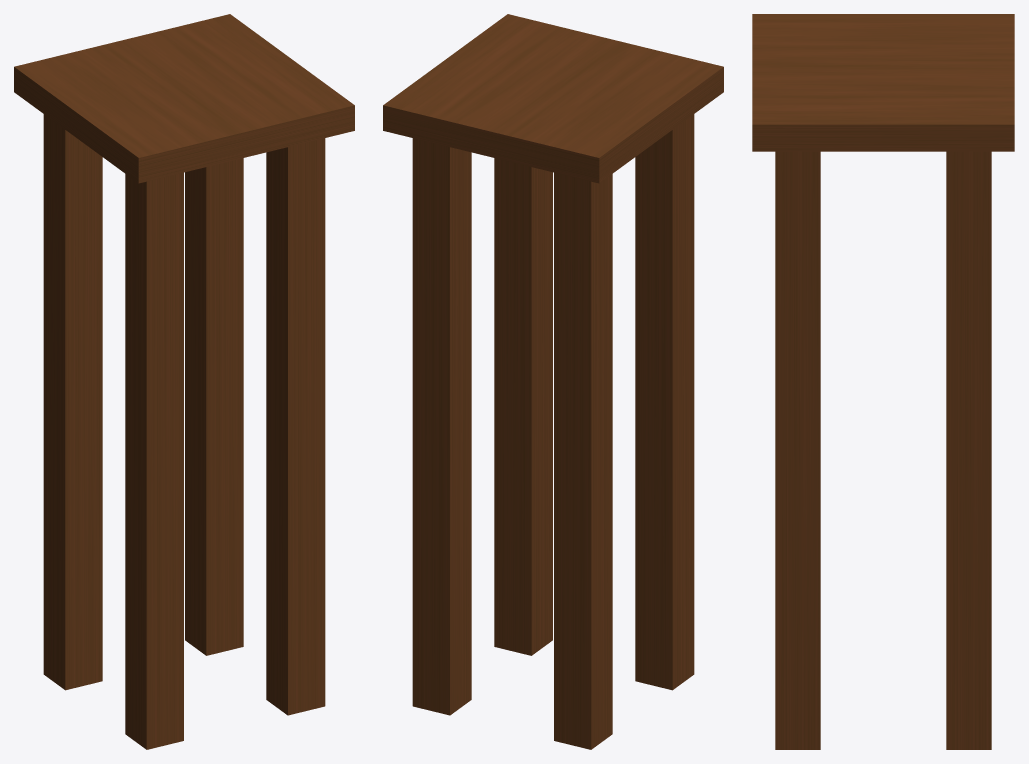
Rendered from long_table.obj.
The picture shows the model from 3 angles, left to right: view 1: azimuth 30°, elevation 25°; view 2: azimuth 150°, elevation 25°; view 3: azimuth 270°, elevation 25°; orthographic projection. The views are drawn at different scales.
Visible parts, largest first — view 1: long_ahh_table; view 2: long_ahh_table; view 3: long_ahh_table.
Part boxes in pixels (x1,y1,x2,y2): long_ahh_table: (14, 14, 354, 749); long_ahh_table: (383, 14, 723, 749); long_ahh_table: (752, 14, 1014, 749).
Size of what is drawn, in the model's own units: 2.45 by 6.55 by 2.45.
Materials: 1 (1 with a texture image).
